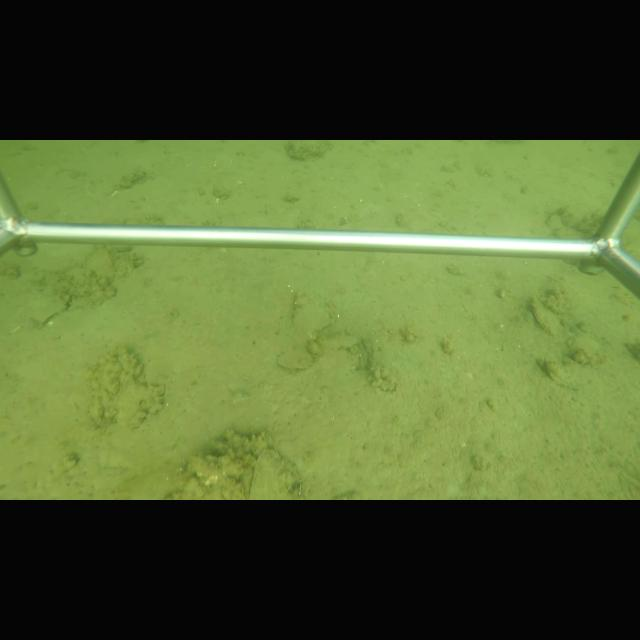Oyster-Closed: (245, 449, 304, 499), (528, 294, 562, 337)
